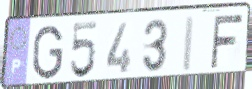3: (140, 17, 170, 74)
4: (105, 21, 133, 75)
5: (69, 20, 99, 81)
F: (209, 12, 245, 70)
G: (31, 24, 65, 82)
I: (179, 14, 197, 74)
